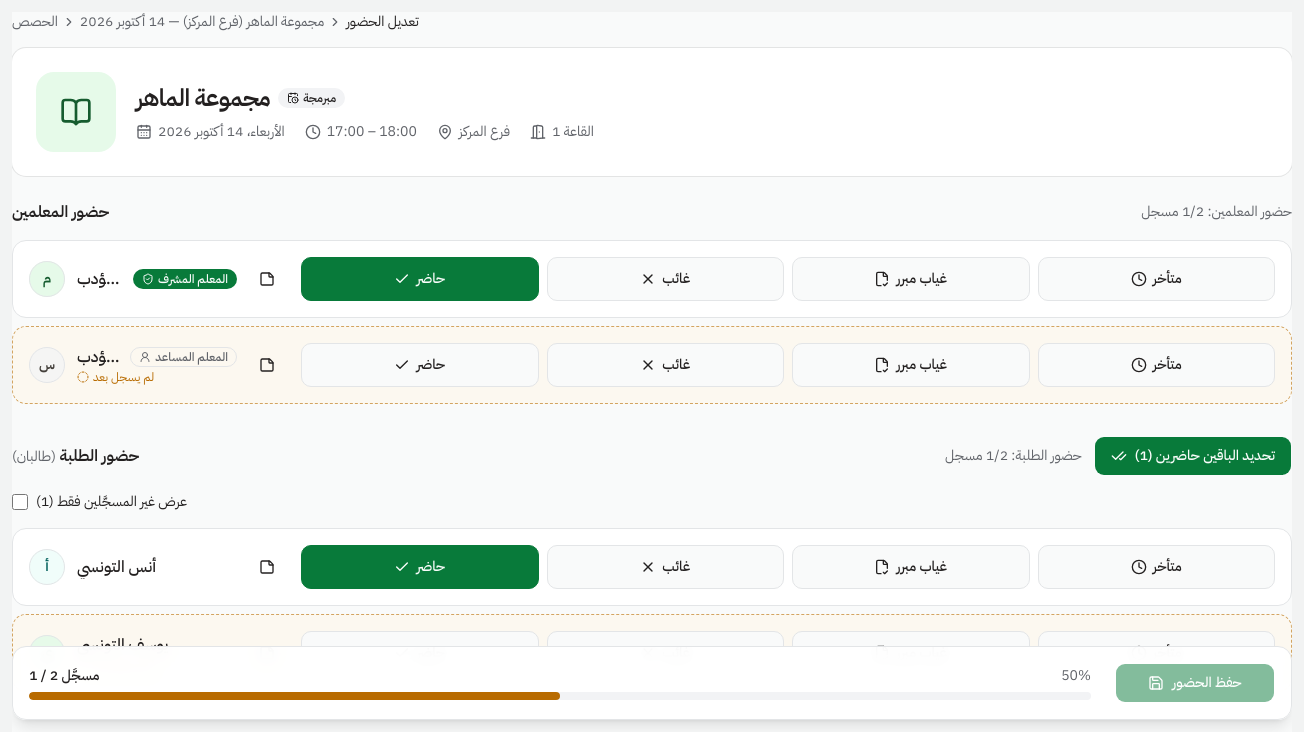
it: session attendance page — teachers and students, one save › a concurrent change (409) shows the API's Arabic message and offers to reload, without losing the page
Click the radio button labelled "حاضر" next to "المعلم المساعد". click: (420,365)
box: [301,343,538,387]
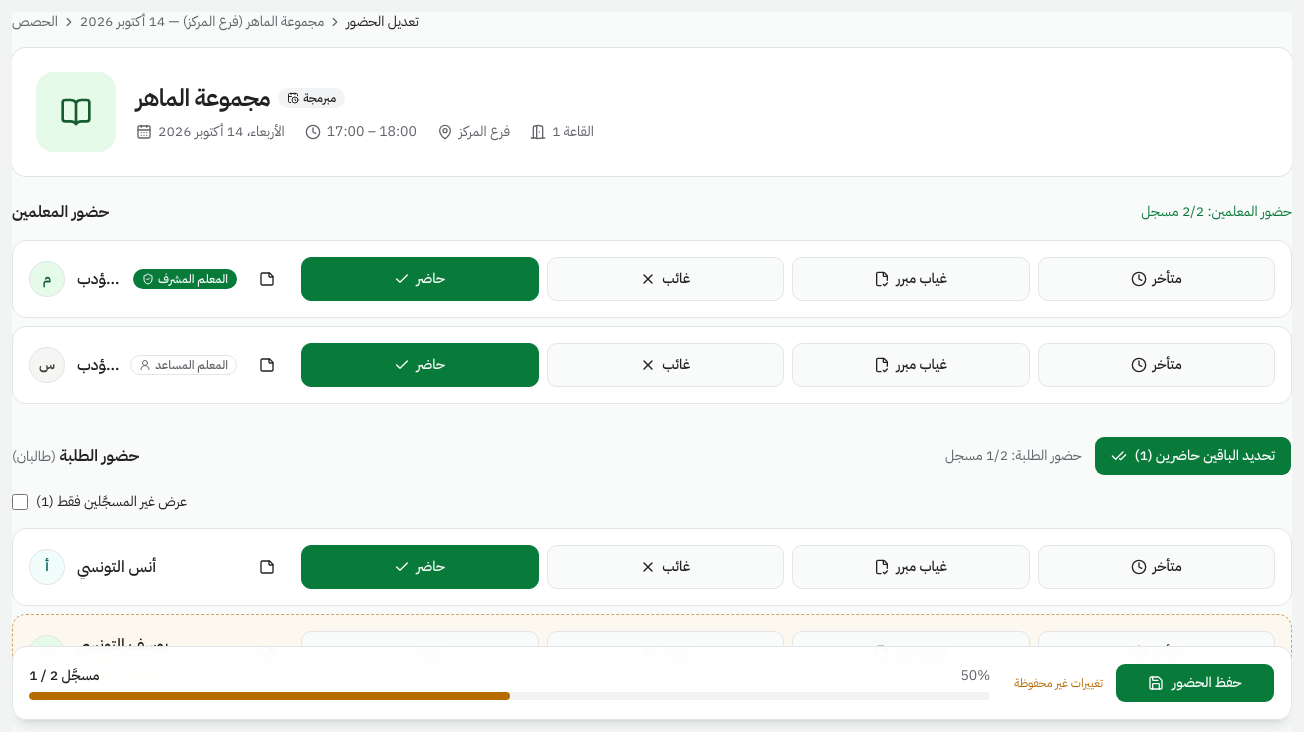
Click the button "حفظ الحضور". click: (1195,683)
box: [1115,663,1275,703]
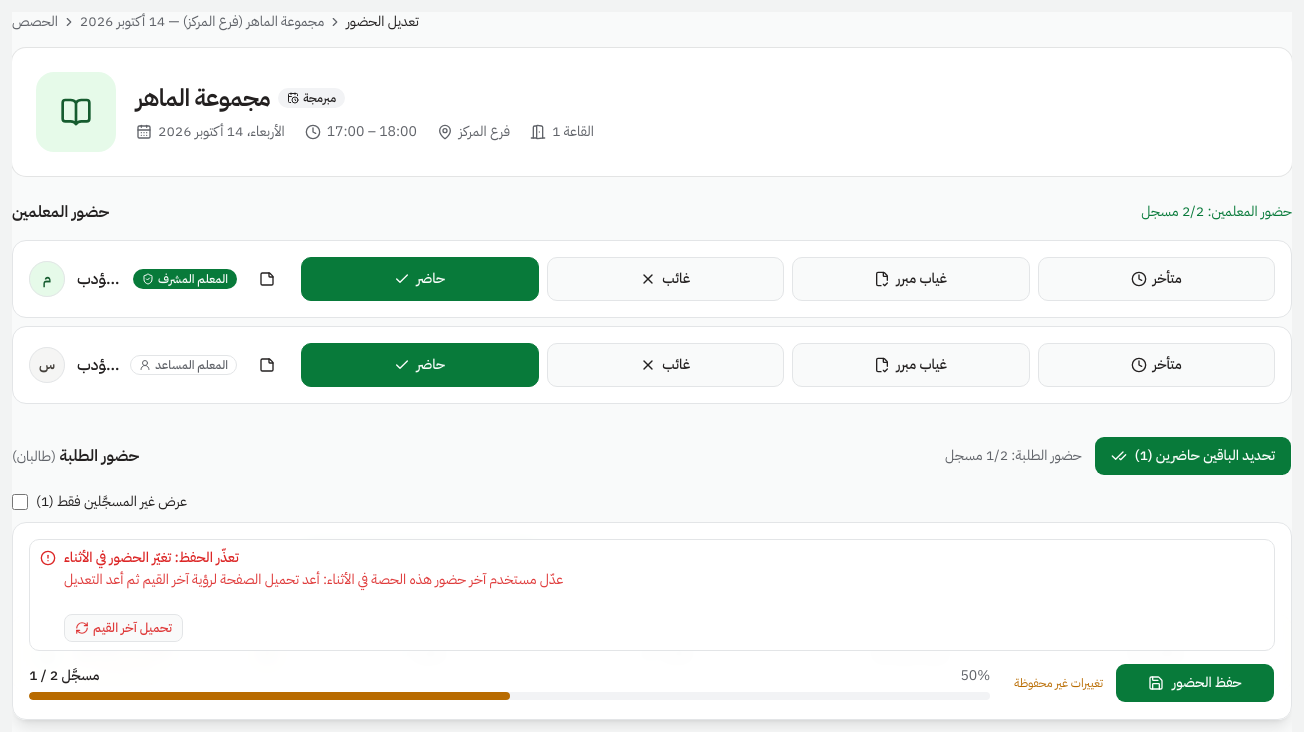
Expected: the text "عدّل مستخدم آخر حضور هذه الحصة في الأثناء: أعد تحميل الصفحة لرؤية آخر القيم ثم أعد التعديل" is shown, [64,570,563,590]
Expected: the button "تحميل آخر القيم" is shown, [64,614,183,642]
Expected: the number of messages is 1, [29,539,1275,651]
